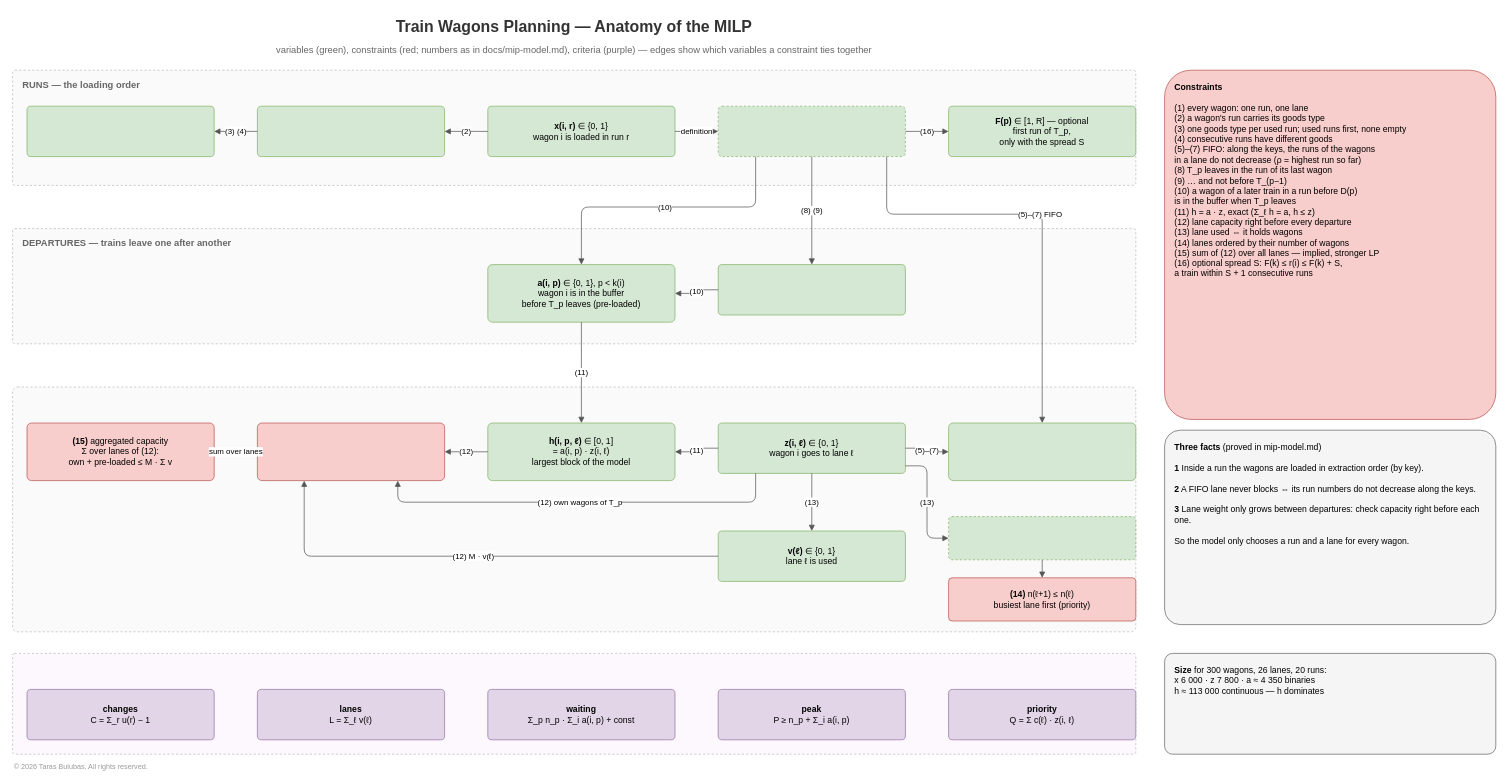
The diagram is 1508 pixels wide and 784 high, and some of its shapes have lost their labels. Each missing label, with the box of its shape:
(12) lane capacity right before T_p leaves: Σ w · z + Σ w · h ≤ M · v(ℓ): (257, 422, 445, 481)
CRITERIA — minimised lexicographically, order is a parameter: (12, 653, 1136, 754)
D(p) ∈ [1, R] run during which T_p leaves: (717, 264, 905, 315)
LANES — FIFO buffer and capacity: (12, 386, 1136, 632)
n(ℓ) = Σ_i z(i, ℓ) wagons in lane ℓ: (948, 516, 1136, 560)
r(i) = Σ_r r · x(i, r) run number of wagon i: (717, 105, 905, 157)
u(r) ∈ {0, 1} run slot r is used: (26, 105, 214, 157)
y(r, g) ∈ {0, 1} run r loads goods type g: (257, 105, 445, 157)
ρ(ℓ, i) ∈ [0, R] highest run among the wagons 1 … i in lane ℓ: (948, 422, 1136, 481)
